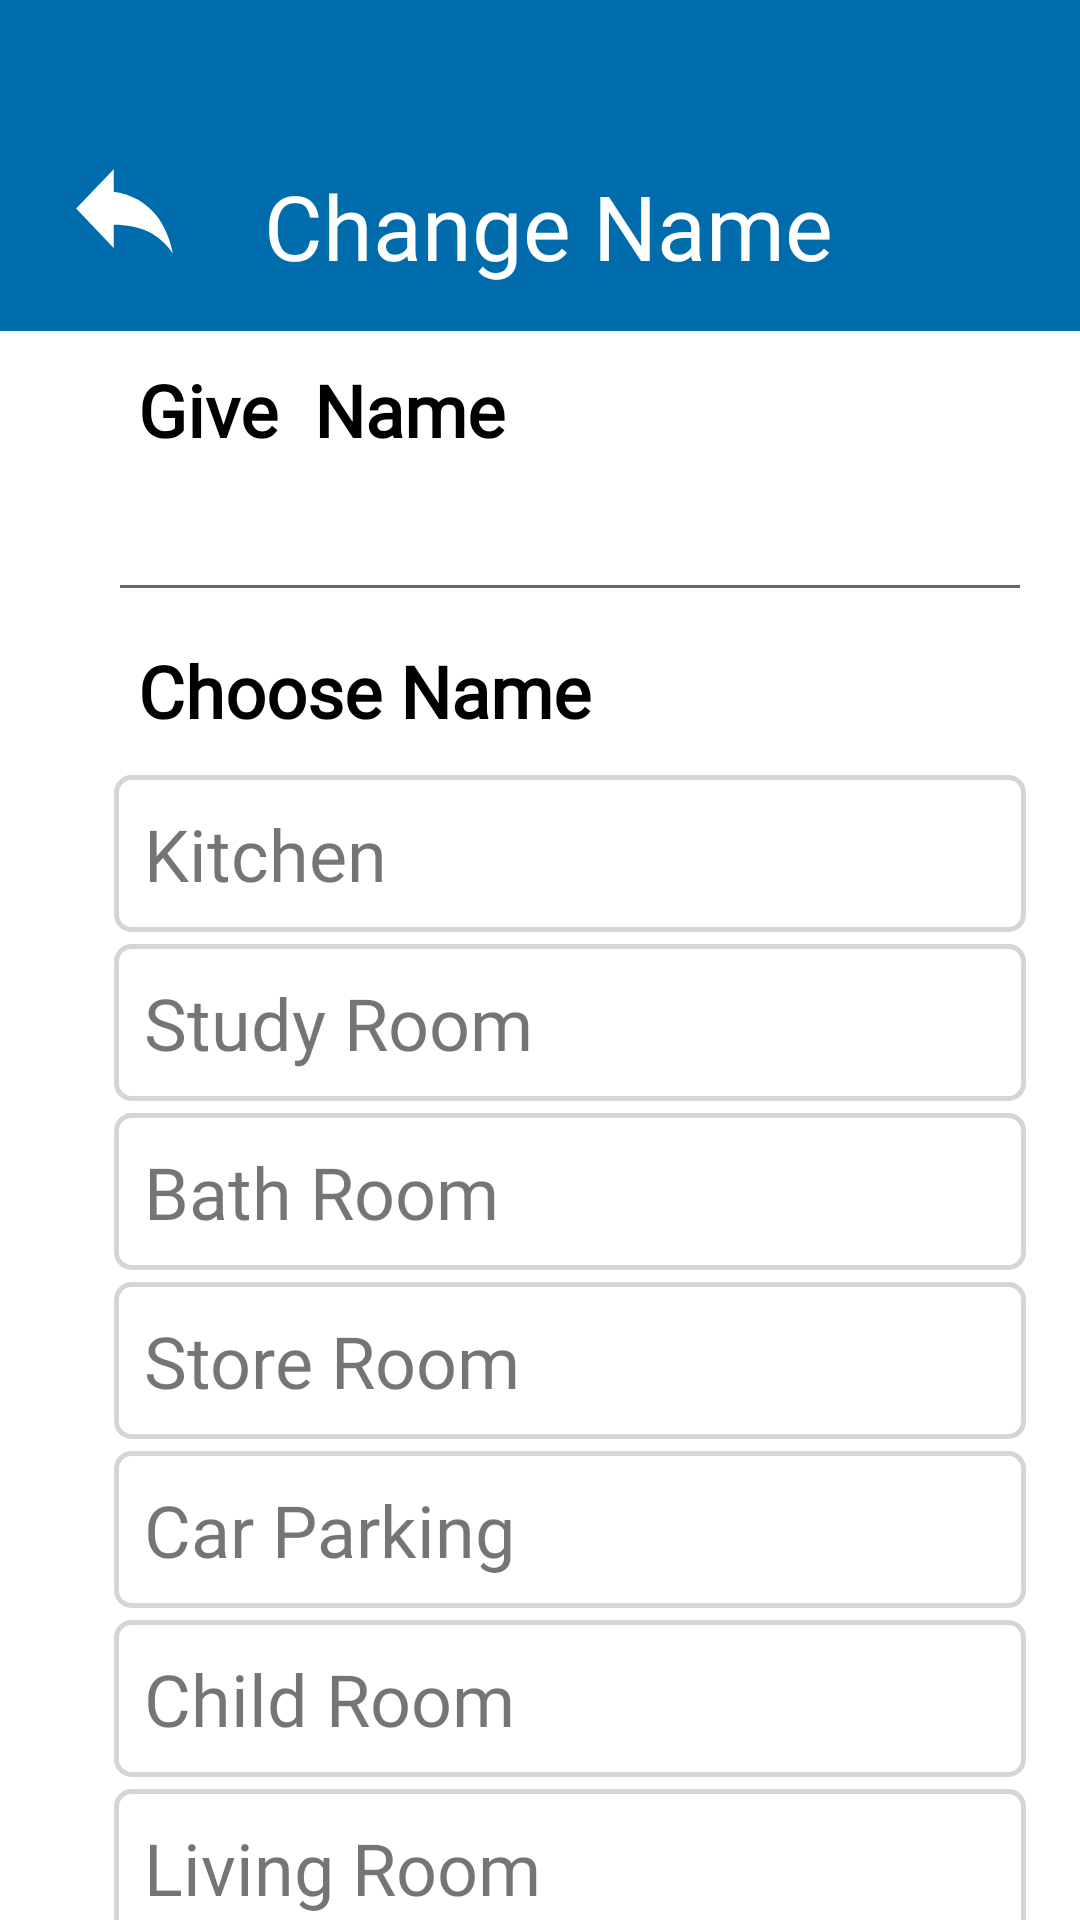

Icon bounding boxes for this 1080×1920 phone screenshot, format Rect(x1, y1, x2, y2):
back: Rect(76, 169, 173, 253)
